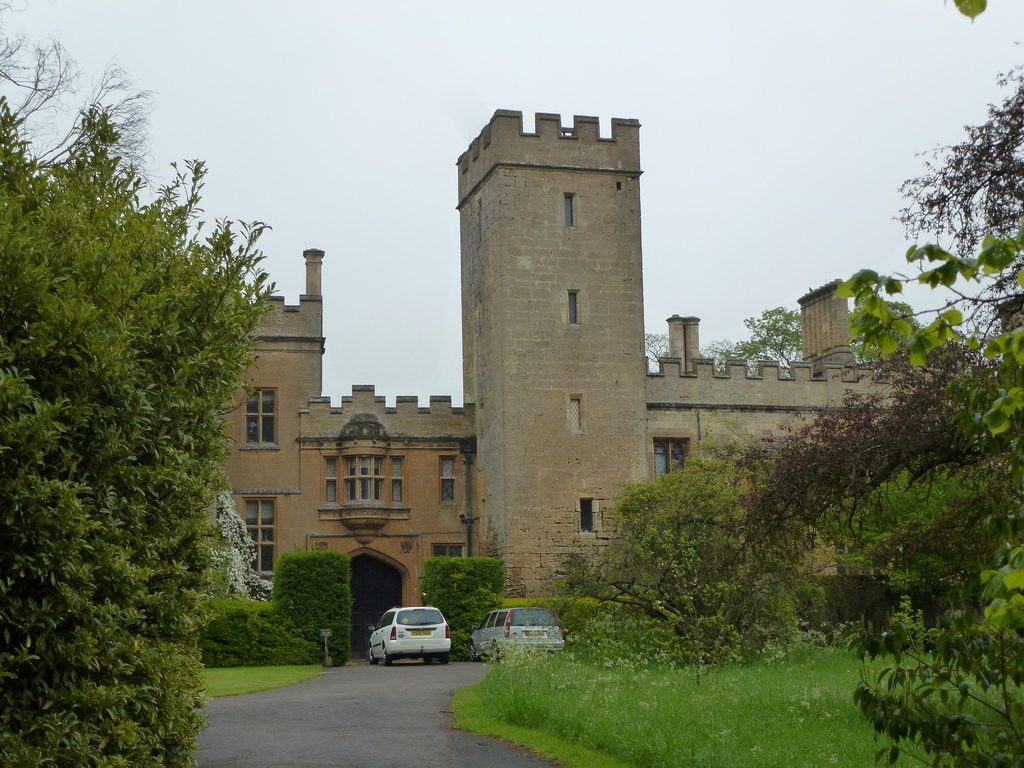Tree: (0, 0, 273, 764), (766, 44, 1022, 576), (840, 231, 1023, 767), (568, 426, 794, 665), (848, 459, 1014, 607), (735, 300, 805, 370), (213, 497, 256, 595), (707, 335, 732, 376), (638, 332, 669, 365)
